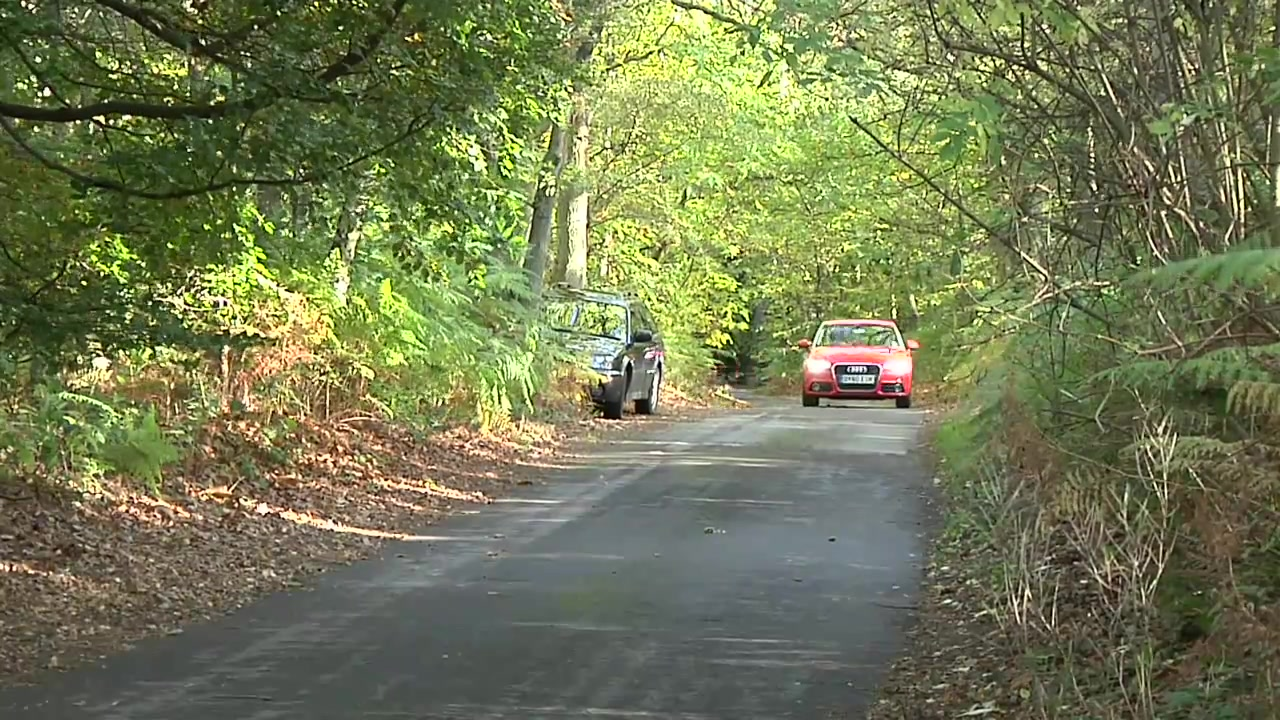car: (795, 314, 923, 408)
